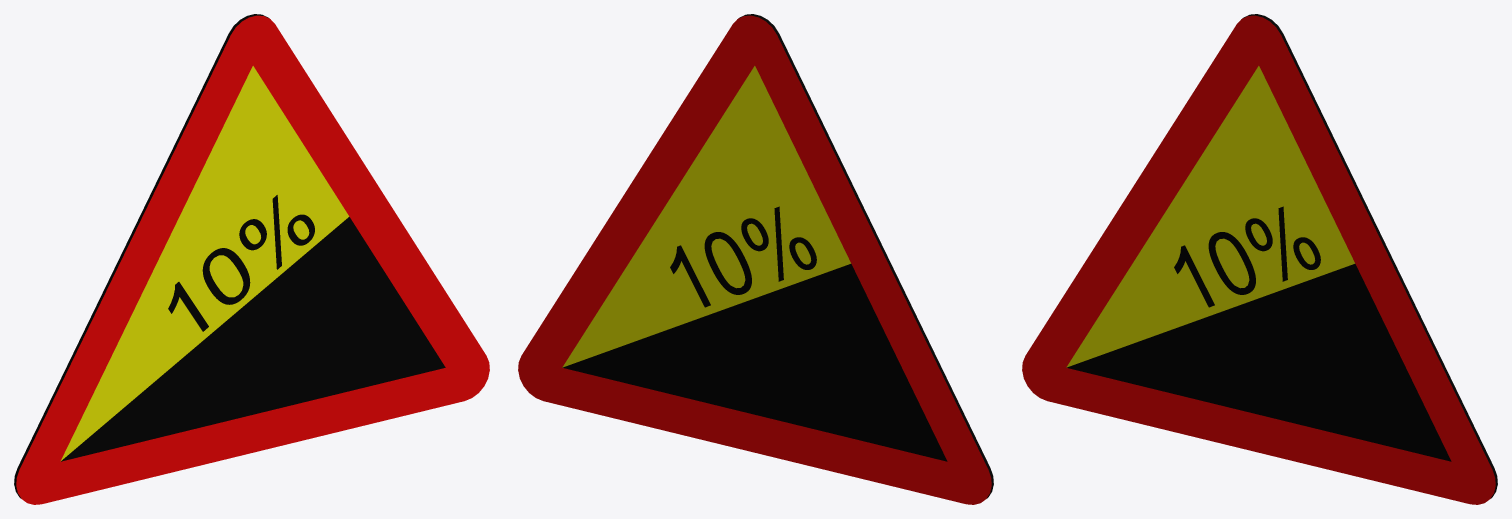
Rendered from w.220_doclennguyhiem_10.glb.
3 views of the same model, side by side, from view 1: azimuth 30°, elevation 25°; view 2: azimuth 150°, elevation 25°; view 3: azimuth 330°, elevation 25° (orthographic).
Visible parts, largest first — view 1: Solid3, Solid4; view 2: Solid3, Solid5; view 3: Solid3, Solid4.
Part boxes in pixels (bbox=[...]): Solid3: bbox=[14, 14, 489, 504]; Solid4: bbox=[168, 195, 314, 331]; Solid3: bbox=[518, 14, 993, 504]; Solid5: bbox=[670, 206, 816, 307]; Solid3: bbox=[1022, 14, 1497, 504]; Solid4: bbox=[1174, 206, 1320, 307].
Bounding box in the file's own units: 0.6486 × 0.5708 × 0.0052.
